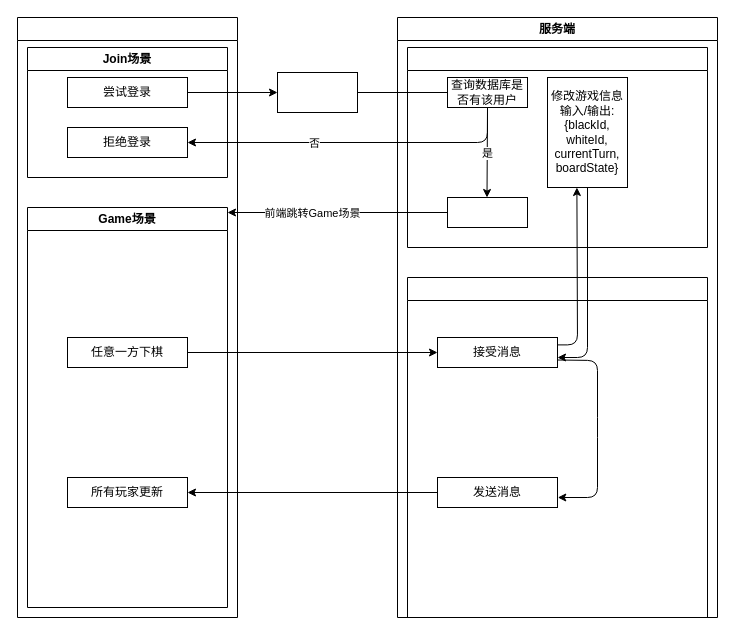
This 735x635 diagram has some shape labels left out. Each missing label, with the box of its shape:
http api/joinGame {id}: (276, 72, 358, 112)
SQL: (406, 46, 708, 248)
WebSocket: (406, 276, 708, 618)
客户端: (16, 16, 238, 618)
用户加入: (446, 196, 528, 228)
